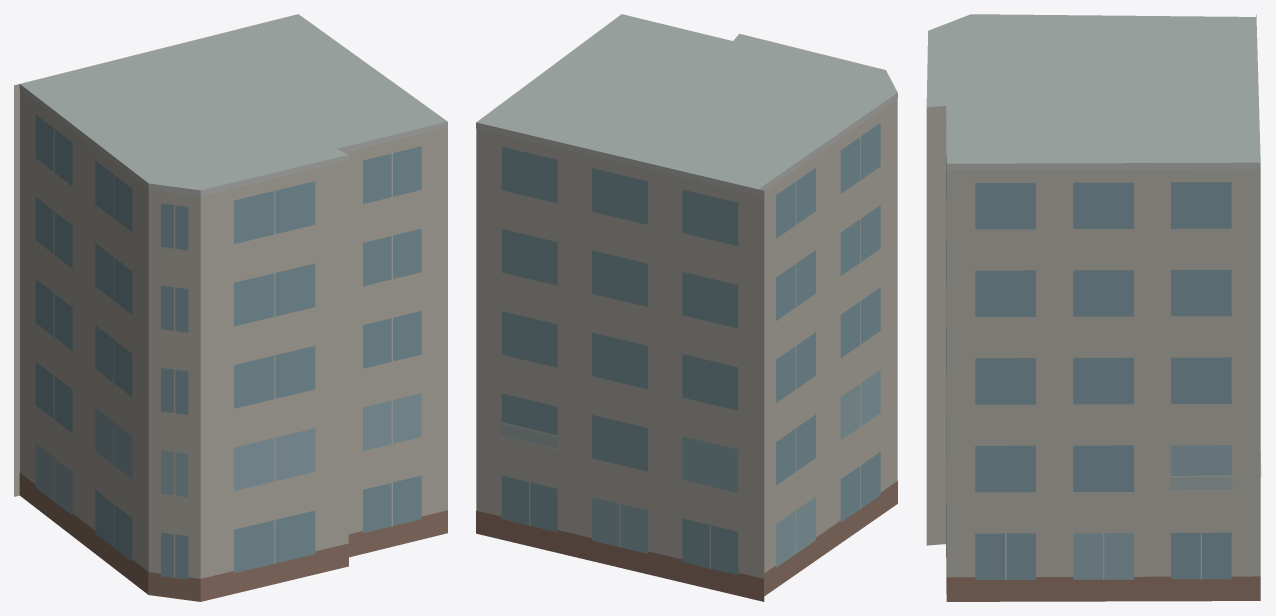
The model's file is survey-upis-32745940.glb.
The picture shows the model from 3 angles, left to right: view 1: azimuth 30°, elevation 25°; view 2: azimuth 150°, elevation 25°; view 3: azimuth 270°, elevation 25°; orthographic projection. The views are drawn at different scales.
Visible parts, largest first — view 1: survey-upis-32745940.tmp; view 2: survey-upis-32745940.tmp; view 3: survey-upis-32745940.tmp.
Part boxes in pixels (x1=…): survey-upis-32745940.tmp: x1=14, y1=14, x2=447, y2=601; survey-upis-32745940.tmp: x1=476, y1=14, x2=897, y2=601; survey-upis-32745940.tmp: x1=926, y1=14, x2=1261, y2=601.
Size of the model in its own units: 11.95 by 16.3 by 11.3.
